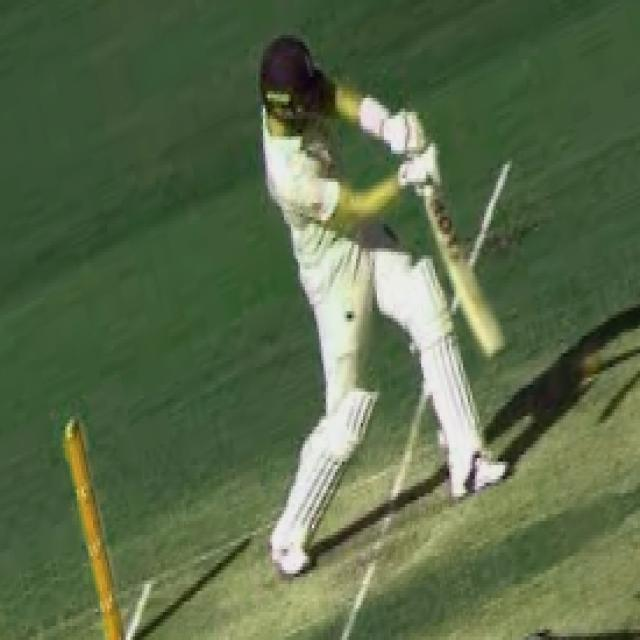toe: (475, 309, 515, 363)
